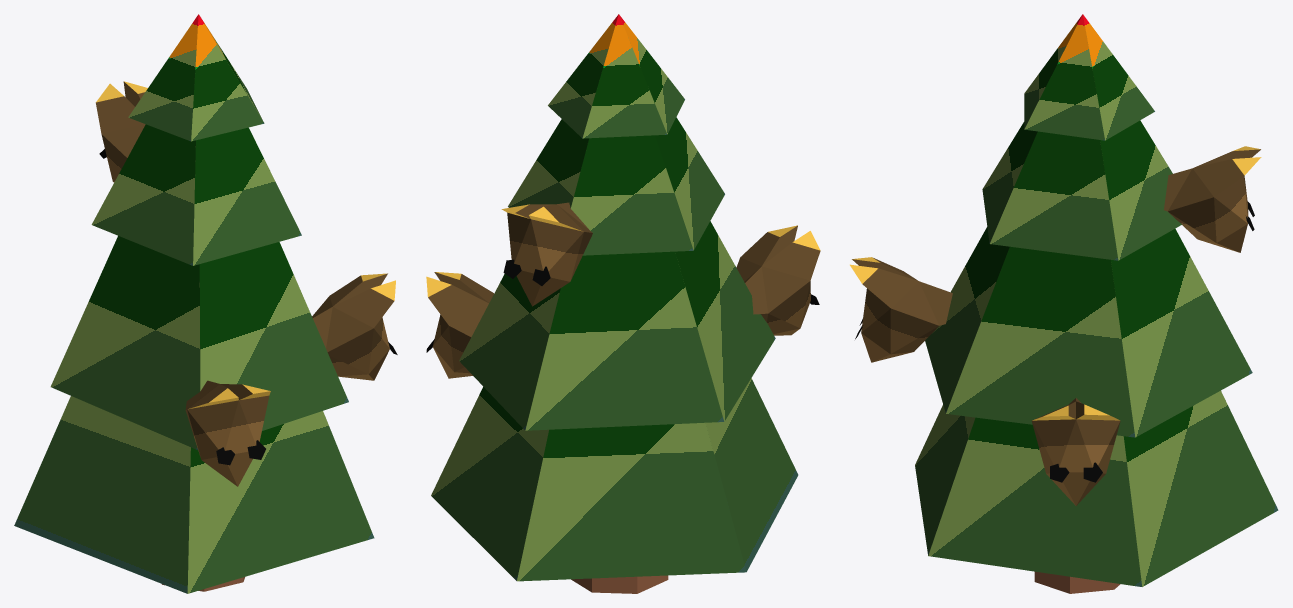
Rendered from Tree2_2.obj.
The picture shows the model from 3 angles, left to right: view 1: azimuth 30°, elevation 25°; view 2: azimuth 150°, elevation 25°; view 3: azimuth 270°, elevation 25°; orthographic projection.
Parts seen in each view (by area): view 1: Cone, Icosphere, Icosphere.002, Icosphere.001; view 2: Cone, Icosphere.001, Icosphere.002, Icosphere; view 3: Cone, Icosphere.002, Icosphere.001, Icosphere.
Boxes of the visible parts, x1=… form: Cone: x1=14, y1=14, x2=374, y2=593; Icosphere: x1=312, y1=273, x2=397, y2=380; Icosphere.002: x1=185, y1=380, x2=270, y2=486; Icosphere.001: x1=95, y1=81, x2=147, y2=182; Cone: x1=431, y1=14, x2=798, y2=593; Icosphere.001: x1=501, y1=202, x2=592, y2=306; Icosphere.002: x1=736, y1=225, x2=820, y2=335; Icosphere: x1=426, y1=272, x2=493, y2=378; Cone: x1=915, y1=14, x2=1278, y2=593; Icosphere.002: x1=850, y1=257, x2=952, y2=362; Icosphere.001: x1=1164, y1=146, x2=1261, y2=252; Icosphere: x1=1031, y1=398, x2=1120, y2=505.
Bounding box in the file's own units: 25.98 × 39.88 × 27.8.
2 materials, 2 textured.
